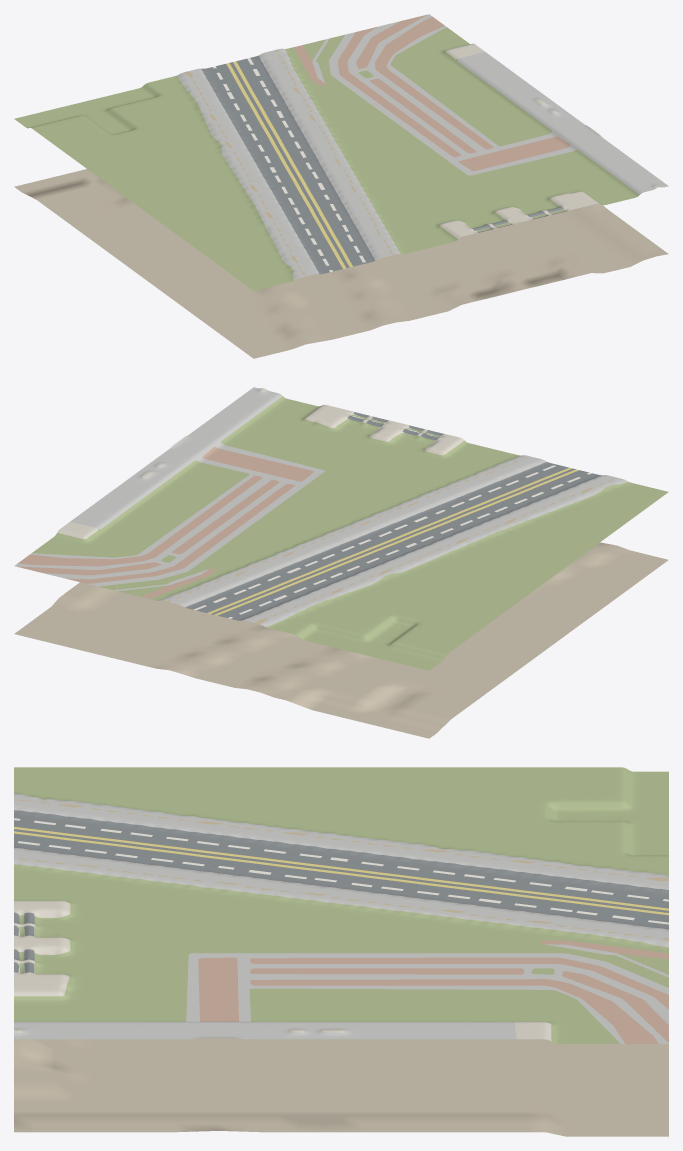
The picture shows the model from 3 angles, top to bottom: view 1: azimuth 30°, elevation 25°; view 2: azimuth 150°, elevation 25°; view 3: azimuth 270°, elevation 25°; orthographic projection. The views are drawn at different scales.
Parts seen in each view (by area): view 1: s_-2_-5__grass, s_-2_-5__soil, s_-2_-5__stone_paving, s_-2_-5__asphalt, s_-2_-5__brick_paving, s_-2_-5__paving, s_-2_-5__yellow_marking, s_-2_-5__white_marking, s_-2_-5__timber_deck; view 2: s_-2_-5__grass, s_-2_-5__soil, s_-2_-5__stone_paving, s_-2_-5__asphalt, s_-2_-5__brick_paving, s_-2_-5__paving, s_-2_-5__yellow_marking, s_-2_-5__white_marking, s_-2_-5__timber_deck; view 3: s_-2_-5__grass, s_-2_-5__soil, s_-2_-5__stone_paving, s_-2_-5__asphalt, s_-2_-5__brick_paving, s_-2_-5__paving, s_-2_-5__yellow_marking, s_-2_-5__white_marking, s_-2_-5__timber_deck.
Part boxes in pixels (left/top/right/bottom): s_-2_-5__grass: left=14, top=27, right=639, bottom=290; s_-2_-5__soil: left=14, top=169, right=668, bottom=358; s_-2_-5__stone_paving: left=177, top=14, right=668, bottom=280; s_-2_-5__asphalt: left=201, top=55, right=567, bottom=274; s_-2_-5__brick_paving: left=294, top=14, right=570, bottom=171; s_-2_-5__paving: left=439, top=43, right=659, bottom=238; s_-2_-5__yellow_marking: left=226, top=61, right=352, bottom=268; s_-2_-5__white_marking: left=213, top=58, right=365, bottom=272; s_-2_-5__timber_deck: left=184, top=49, right=392, bottom=274; s_-2_-5__grass: left=32, top=396, right=668, bottom=670; s_-2_-5__soil: left=14, top=542, right=668, bottom=738; s_-2_-5__stone_paving: left=14, top=387, right=627, bottom=627; s_-2_-5__asphalt: left=185, top=412, right=602, bottom=620; s_-2_-5__brick_paving: left=17, top=446, right=313, bottom=598; s_-2_-5__paving: left=57, top=388, right=464, bottom=539; s_-2_-5__yellow_marking: left=207, top=467, right=579, bottom=615; s_-2_-5__white_marking: left=193, top=465, right=591, bottom=618; s_-2_-5__timber_deck: left=166, top=457, right=617, bottom=623; s_-2_-5__grass: left=14, top=767, right=668, bottom=1043; s_-2_-5__soil: left=14, top=865, right=668, bottom=1136; s_-2_-5__stone_paving: left=14, top=793, right=668, bottom=1043; s_-2_-5__asphalt: left=14, top=810, right=668, bottom=972; s_-2_-5__brick_paving: left=198, top=940, right=668, bottom=1043; s_-2_-5__paving: left=14, top=900, right=551, bottom=1041; s_-2_-5__yellow_marking: left=14, top=827, right=668, bottom=915; s_-2_-5__white_marking: left=14, top=818, right=668, bottom=924; s_-2_-5__timber_deck: left=14, top=799, right=668, bottom=940.
Bounding box in the file's own units: 128 × 22.41 × 128.
